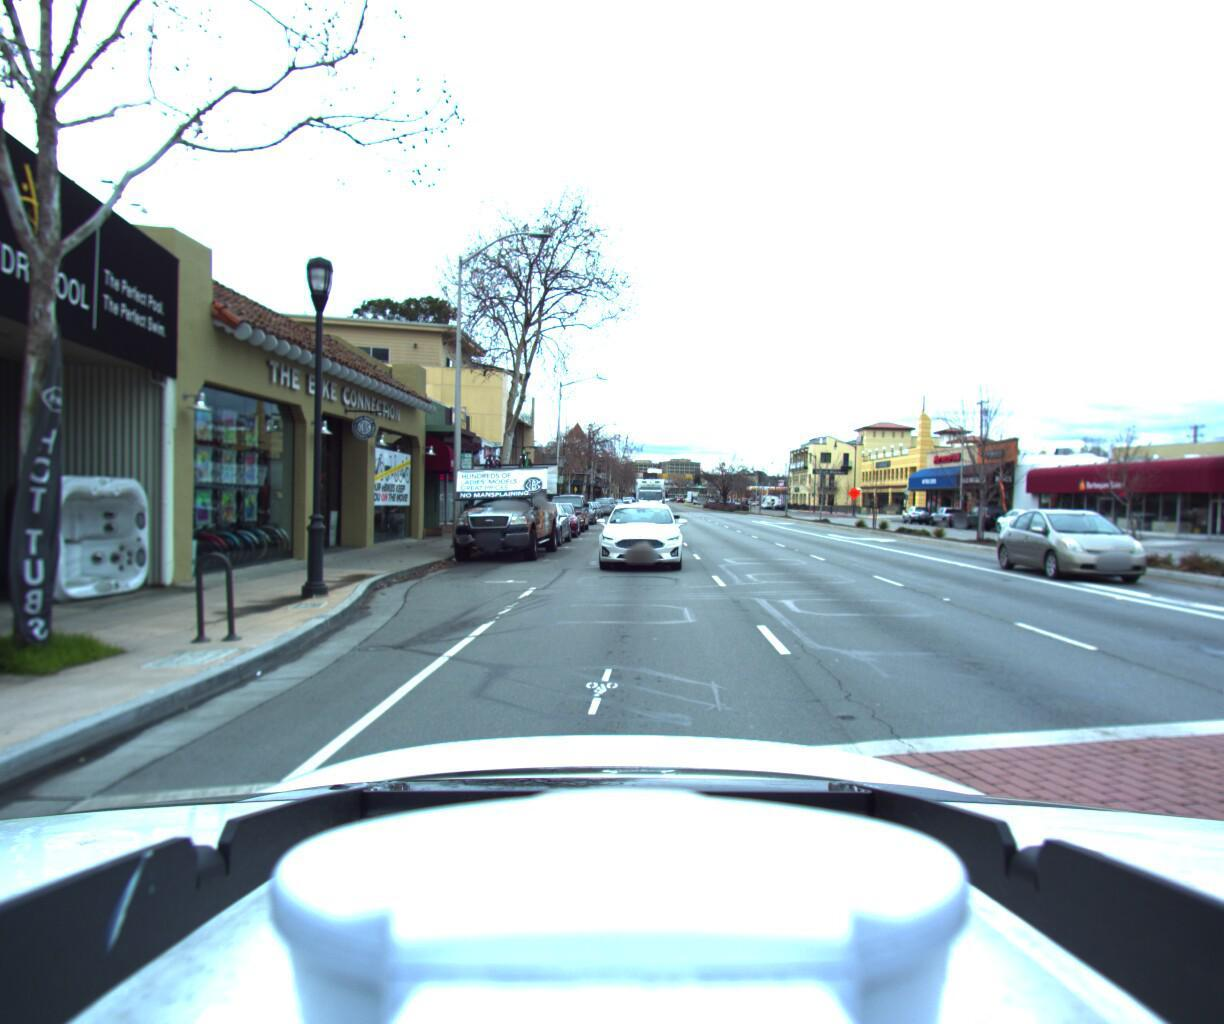car: (428, 431, 566, 566), (990, 502, 1186, 585), (589, 496, 688, 573), (503, 498, 572, 548), (990, 503, 1057, 537), (543, 489, 591, 533), (532, 499, 578, 539), (961, 503, 1013, 530), (927, 503, 974, 528), (564, 499, 601, 526), (896, 502, 933, 525), (591, 497, 615, 515)
truck: (628, 477, 666, 520)
